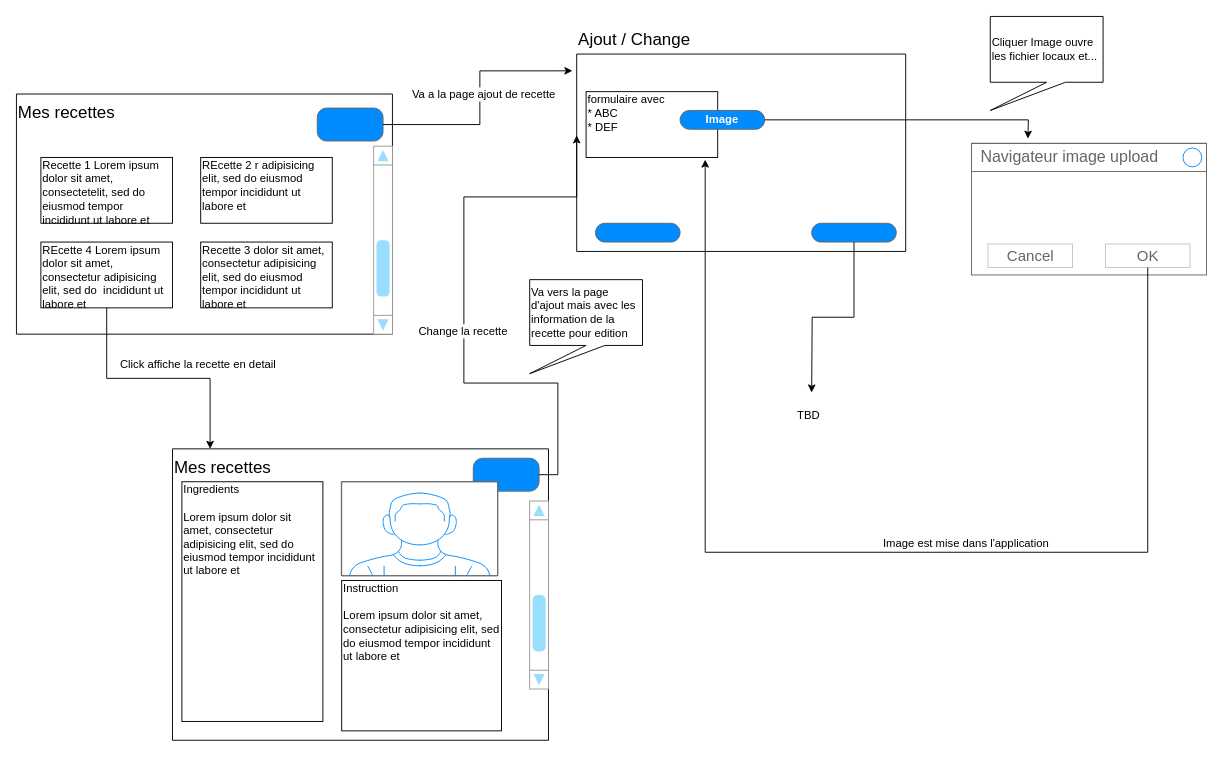
This 1223x757 diagram has some shape labels left out. Here are the shapes that lost their labels. From the top down, the box of each, then its label:
(316, 107, 383, 141): Add
(971, 142, 1206, 275): Fichier a telecharger
(595, 222, 680, 242): Ajoute
(811, 222, 896, 242): Detruit
(472, 457, 539, 491): Change
